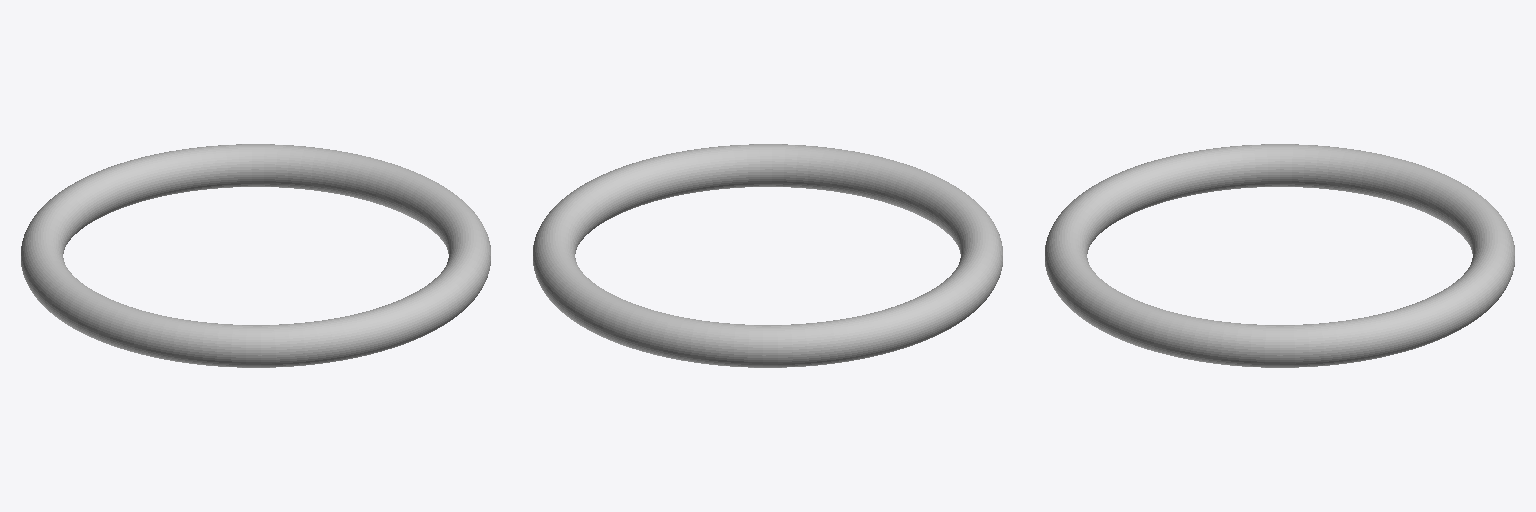
The model's file is ring.obj.
The picture shows the model from 3 angles: view 1: azimuth 30°, elevation 25°; view 2: azimuth 150°, elevation 25°; view 3: azimuth 270°, elevation 25°; orthographic projection.
Visible parts, largest first — view 1: Torus.004; view 2: Torus.004; view 3: Torus.004.
Part boxes in pixels (bbox=[...]): Torus.004: bbox=[21, 144, 490, 367]; Torus.004: bbox=[533, 144, 1002, 367]; Torus.004: bbox=[1045, 144, 1514, 367].
Size of the model in its own units: 0.88 by 0.0798 by 0.88.